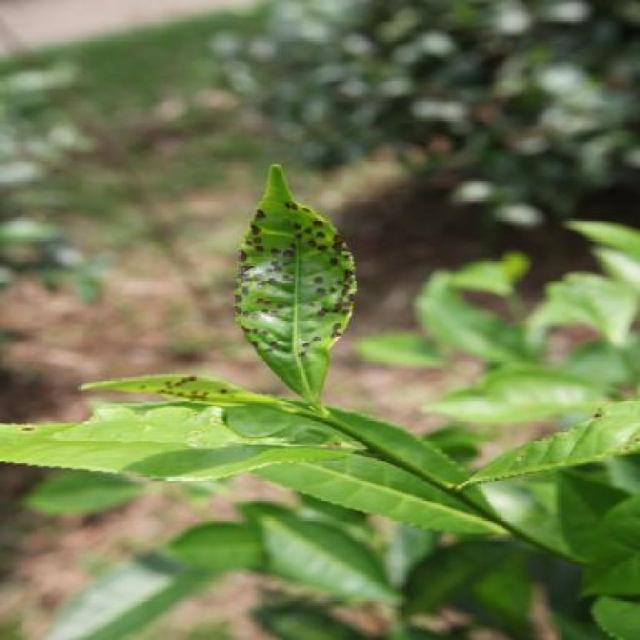Tea Mosquito bug infested leaf: (223, 170, 362, 412), (83, 363, 294, 429)
